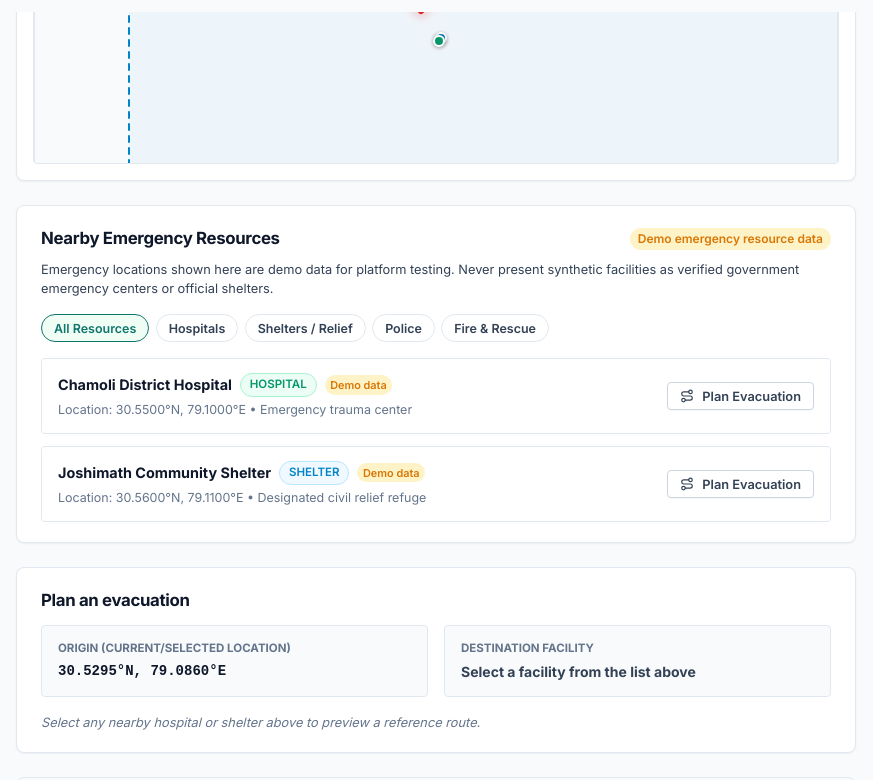
Test: Emergency & Evacuation (/emergency) Page Refactor › allows planning an evacuation and labels it as a Reference Route with critical safety notice
Expected: the text "Chamoli District Hospital" is shown, x1=58 y1=374 x2=232 y2=396
Click "Plan Evacuation" button for Chamoli Hospital
Click the button "Plan Evacuation" in the row of "Emergency trauma center" at point(741, 396), box x1=667 y1=382 x2=814 y2=410
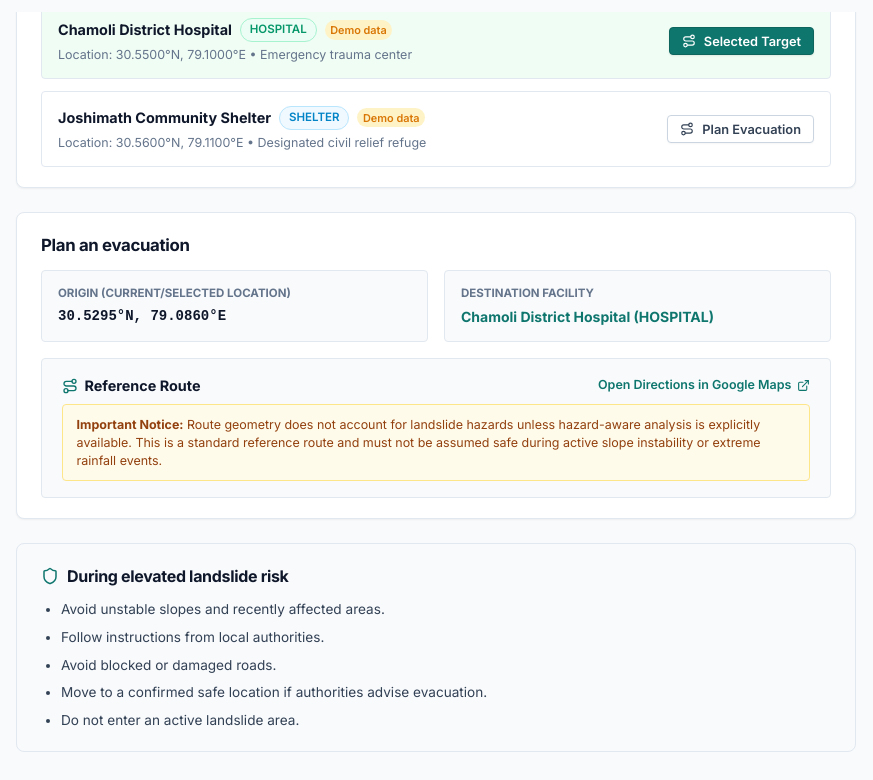
Now the text "Reference Route" is shown, box x1=84 y1=375 x2=200 y2=396
Now the text "Route geometry does not account for landslide hazards unless hazard-aware analysis is explicitly available" is shown, box x1=77 y1=417 x2=761 y2=468
